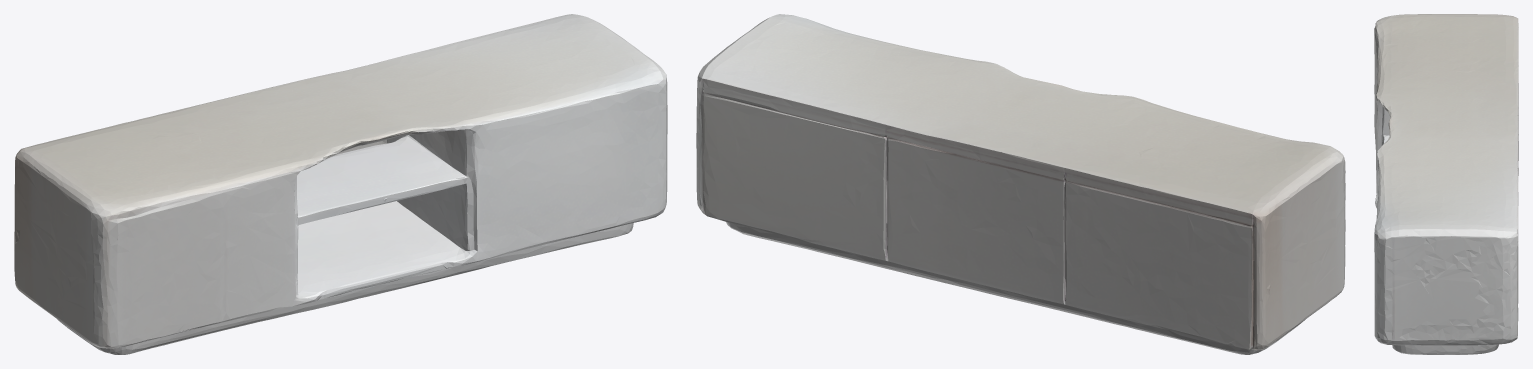
3 views of the same model, side by side, from view 1: azimuth 30°, elevation 25°; view 2: azimuth 150°, elevation 25°; view 3: azimuth 270°, elevation 25° (orthographic). The views are drawn at different scales.
Visible parts, largest first — view 1: world; view 2: world; view 3: world.
Part boxes in pixels (x1,y1,x2,y2): world: [14, 14, 667, 354]; world: [696, 14, 1345, 354]; world: [1374, 14, 1518, 354].
Size of the model in its own units: 1 by 0.2786 by 0.274.
1 material, 1 textured.
